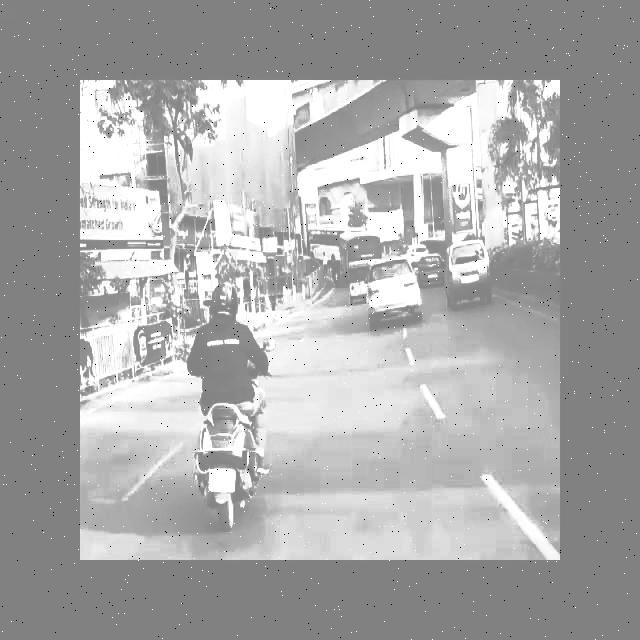Bike: (178, 283, 285, 542)
Car: (446, 231, 504, 317), (366, 257, 423, 327), (414, 251, 447, 289)
